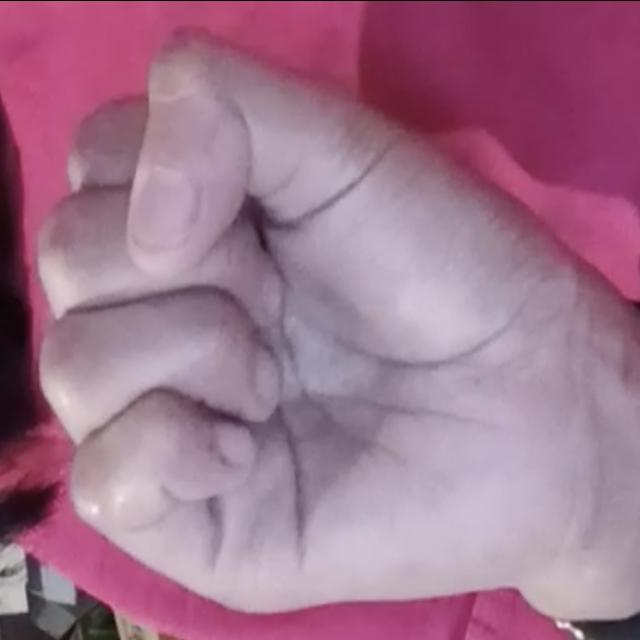S: (28, 31, 602, 624)
